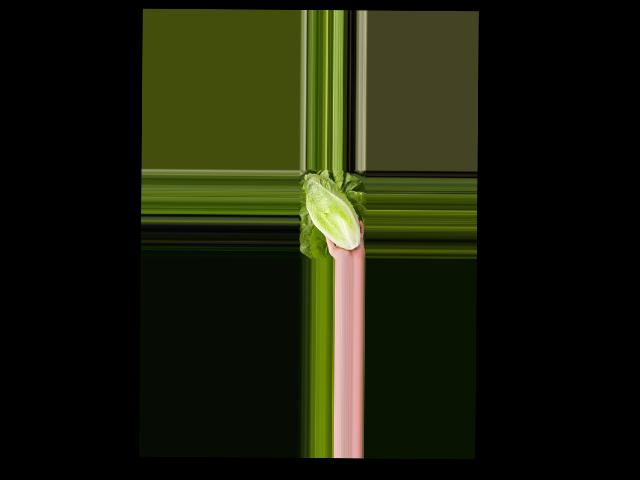lettuce: (303, 173, 363, 251)
